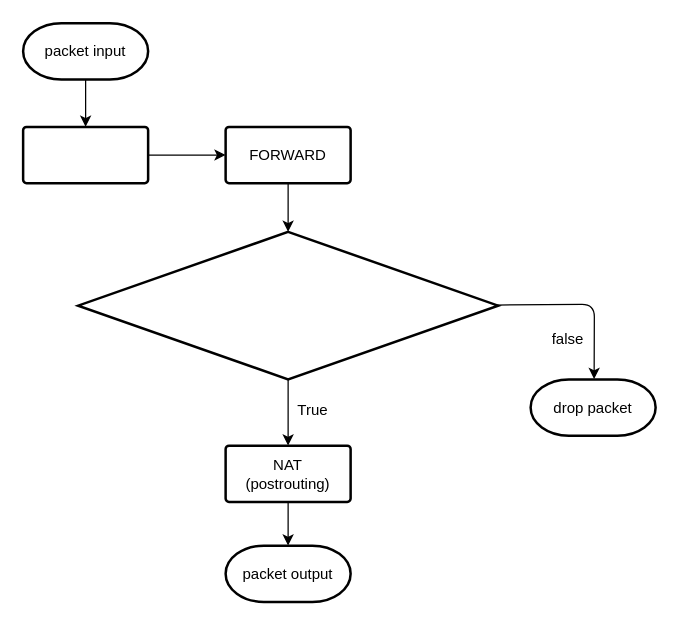
Image size: 678x624. Some labels were removed from this diagram. Here are the shapes that lost their labels. From the top down, the centre of each, then its label:
At (85,154): "NAT (prerouting)".
At (287,305): "if dport && sport == DNS(53) HTTP(80) HTTPS(443) Telnet(23) ICMP".
